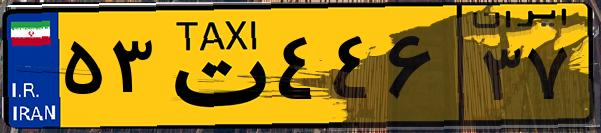3: (475, 38, 525, 113), (110, 28, 158, 98)
4: (270, 28, 330, 110), (330, 28, 385, 110)
5: (57, 26, 110, 100)
6: (385, 28, 445, 110)
7: (525, 38, 570, 115)
ت: (158, 12, 270, 120)
